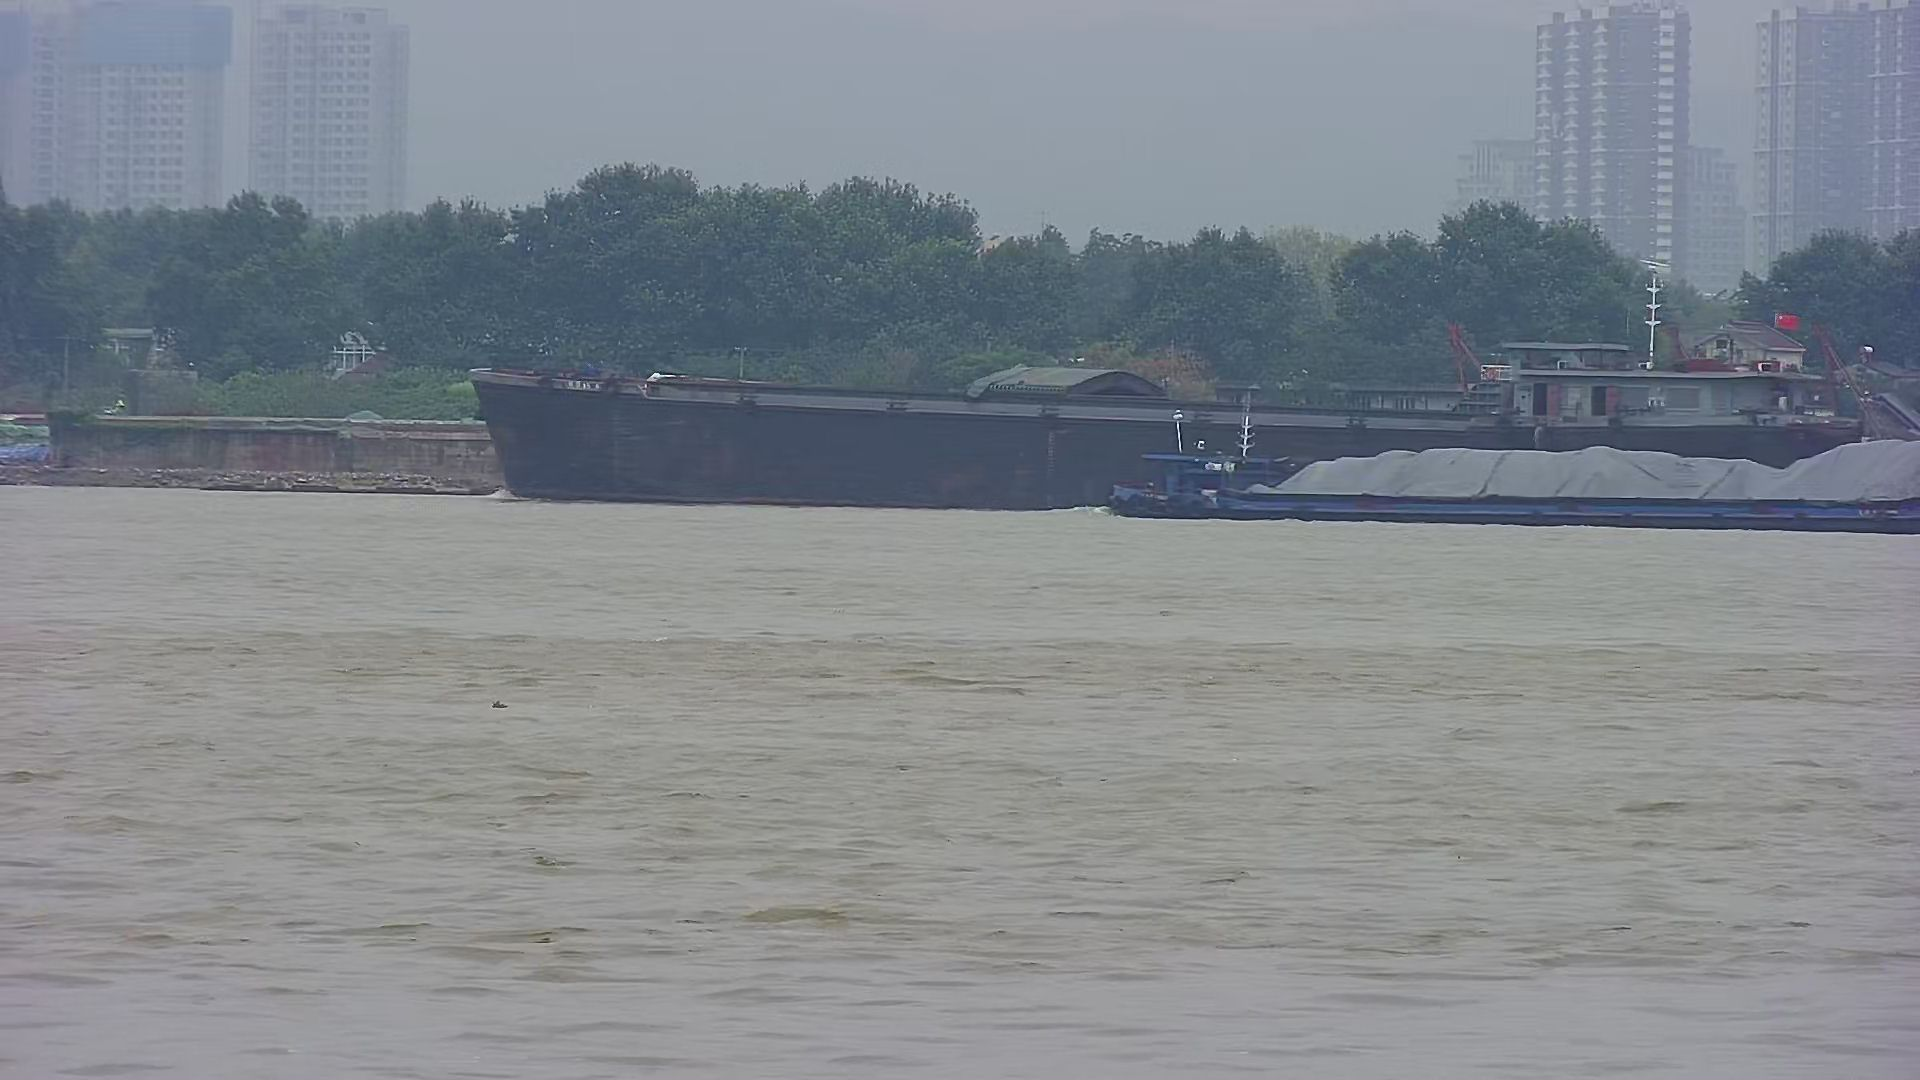ship: (463, 253, 1863, 512), (1100, 397, 1920, 541)
